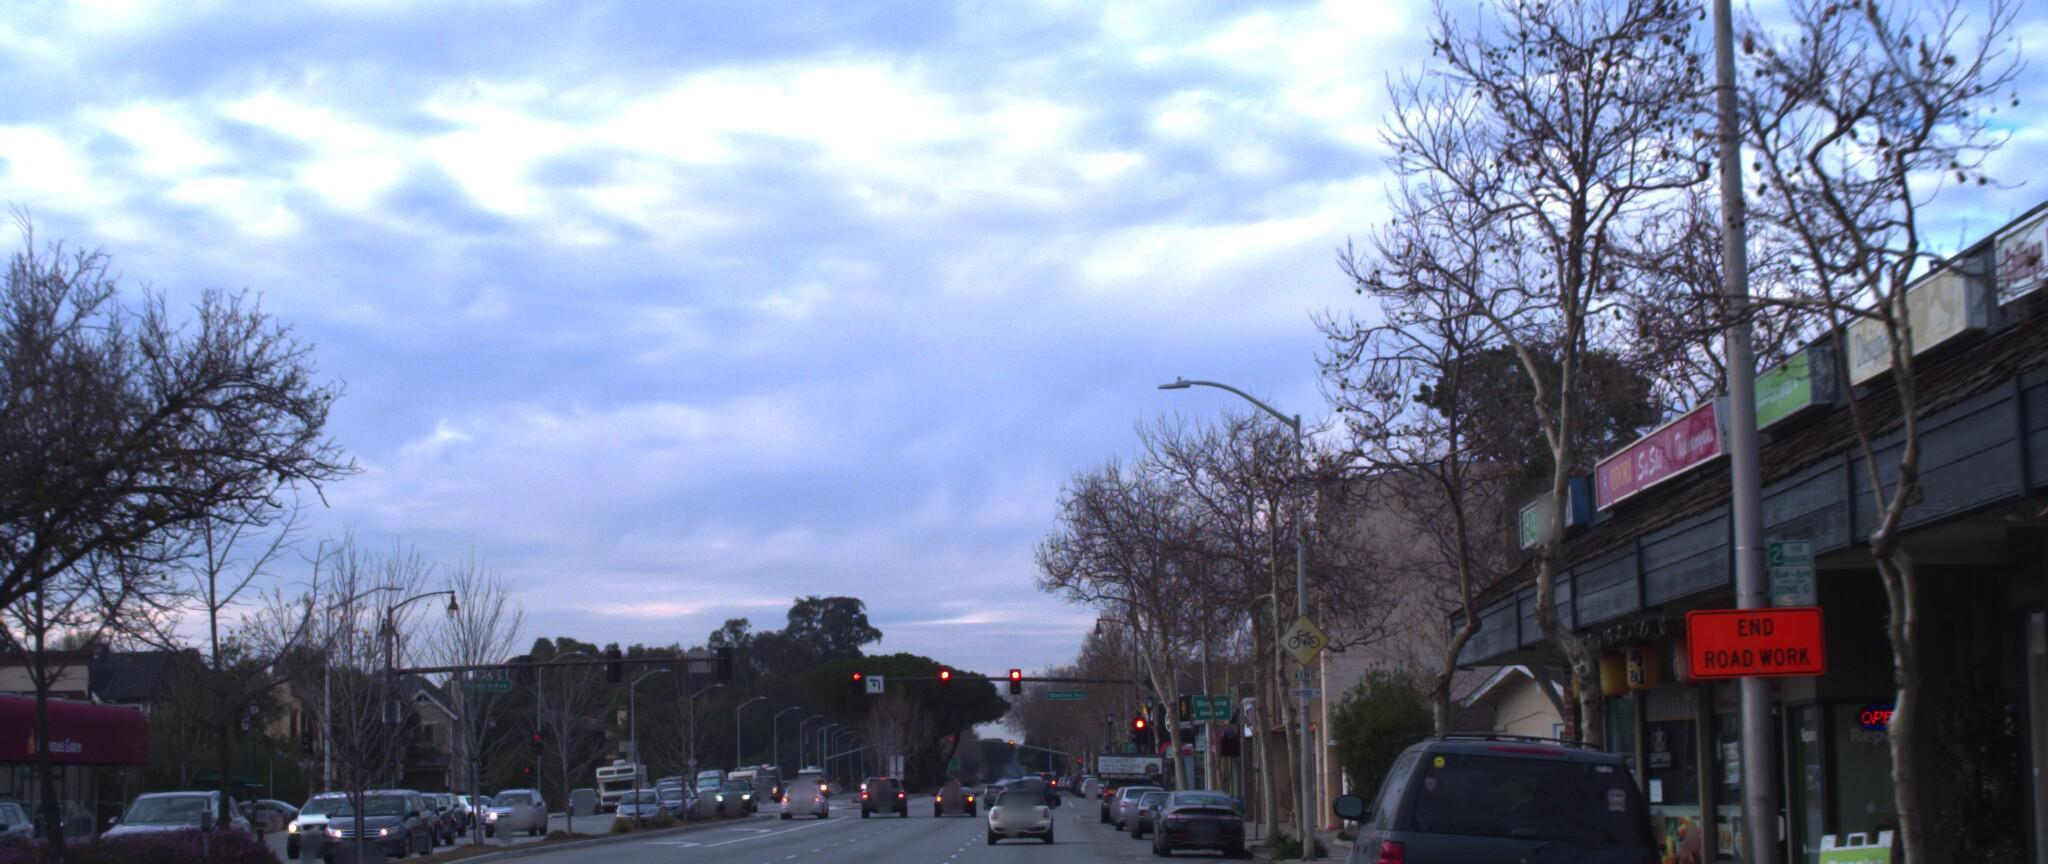car: (1317, 737, 1678, 864), (1128, 779, 1250, 860), (313, 800, 426, 864), (259, 796, 362, 860), (981, 778, 1055, 852)
